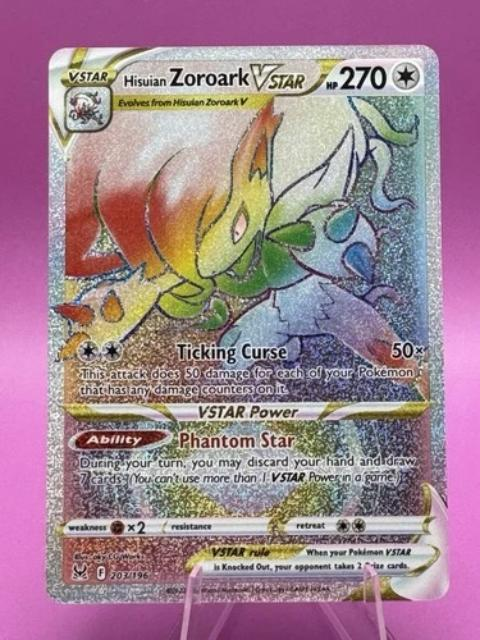Card: (41, 39, 456, 607)
Name: (117, 60, 314, 97)
